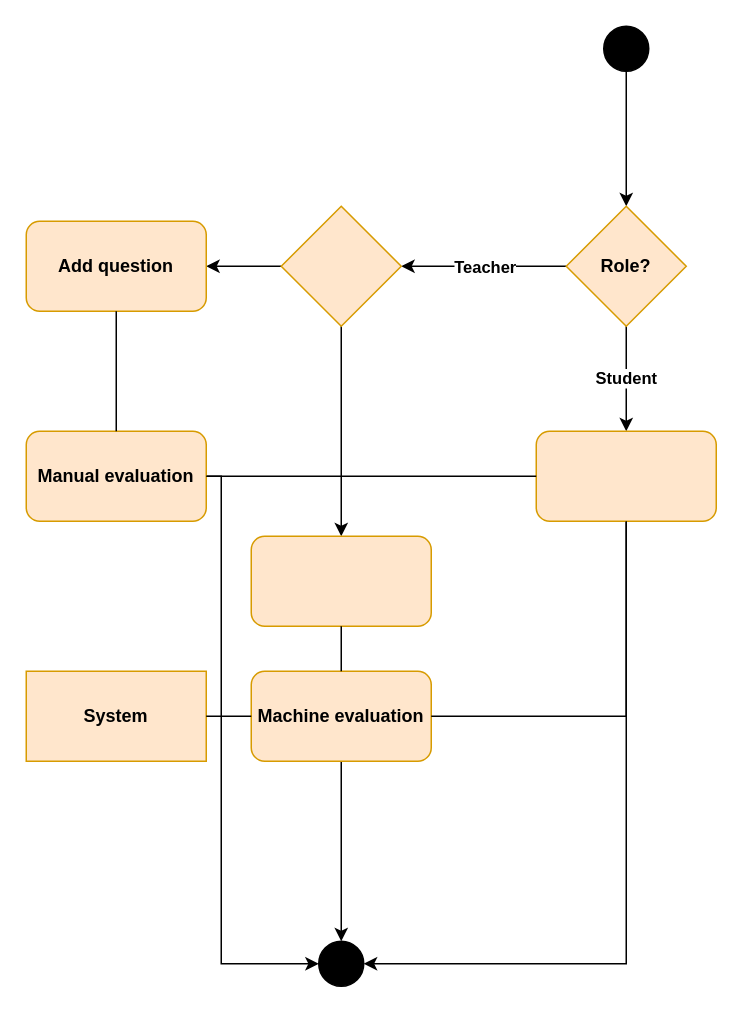
Image size: 743x1013. Some labels were removed from this diagram. The shapes that lost their labels are listed below. From the top down, each one's centre as x and y in pixels, then its label:
At pixel 340 265: "For auto checking?".
At pixel 625 475: "Answer script submission".
At pixel 340 580: "Add question in a special format".
